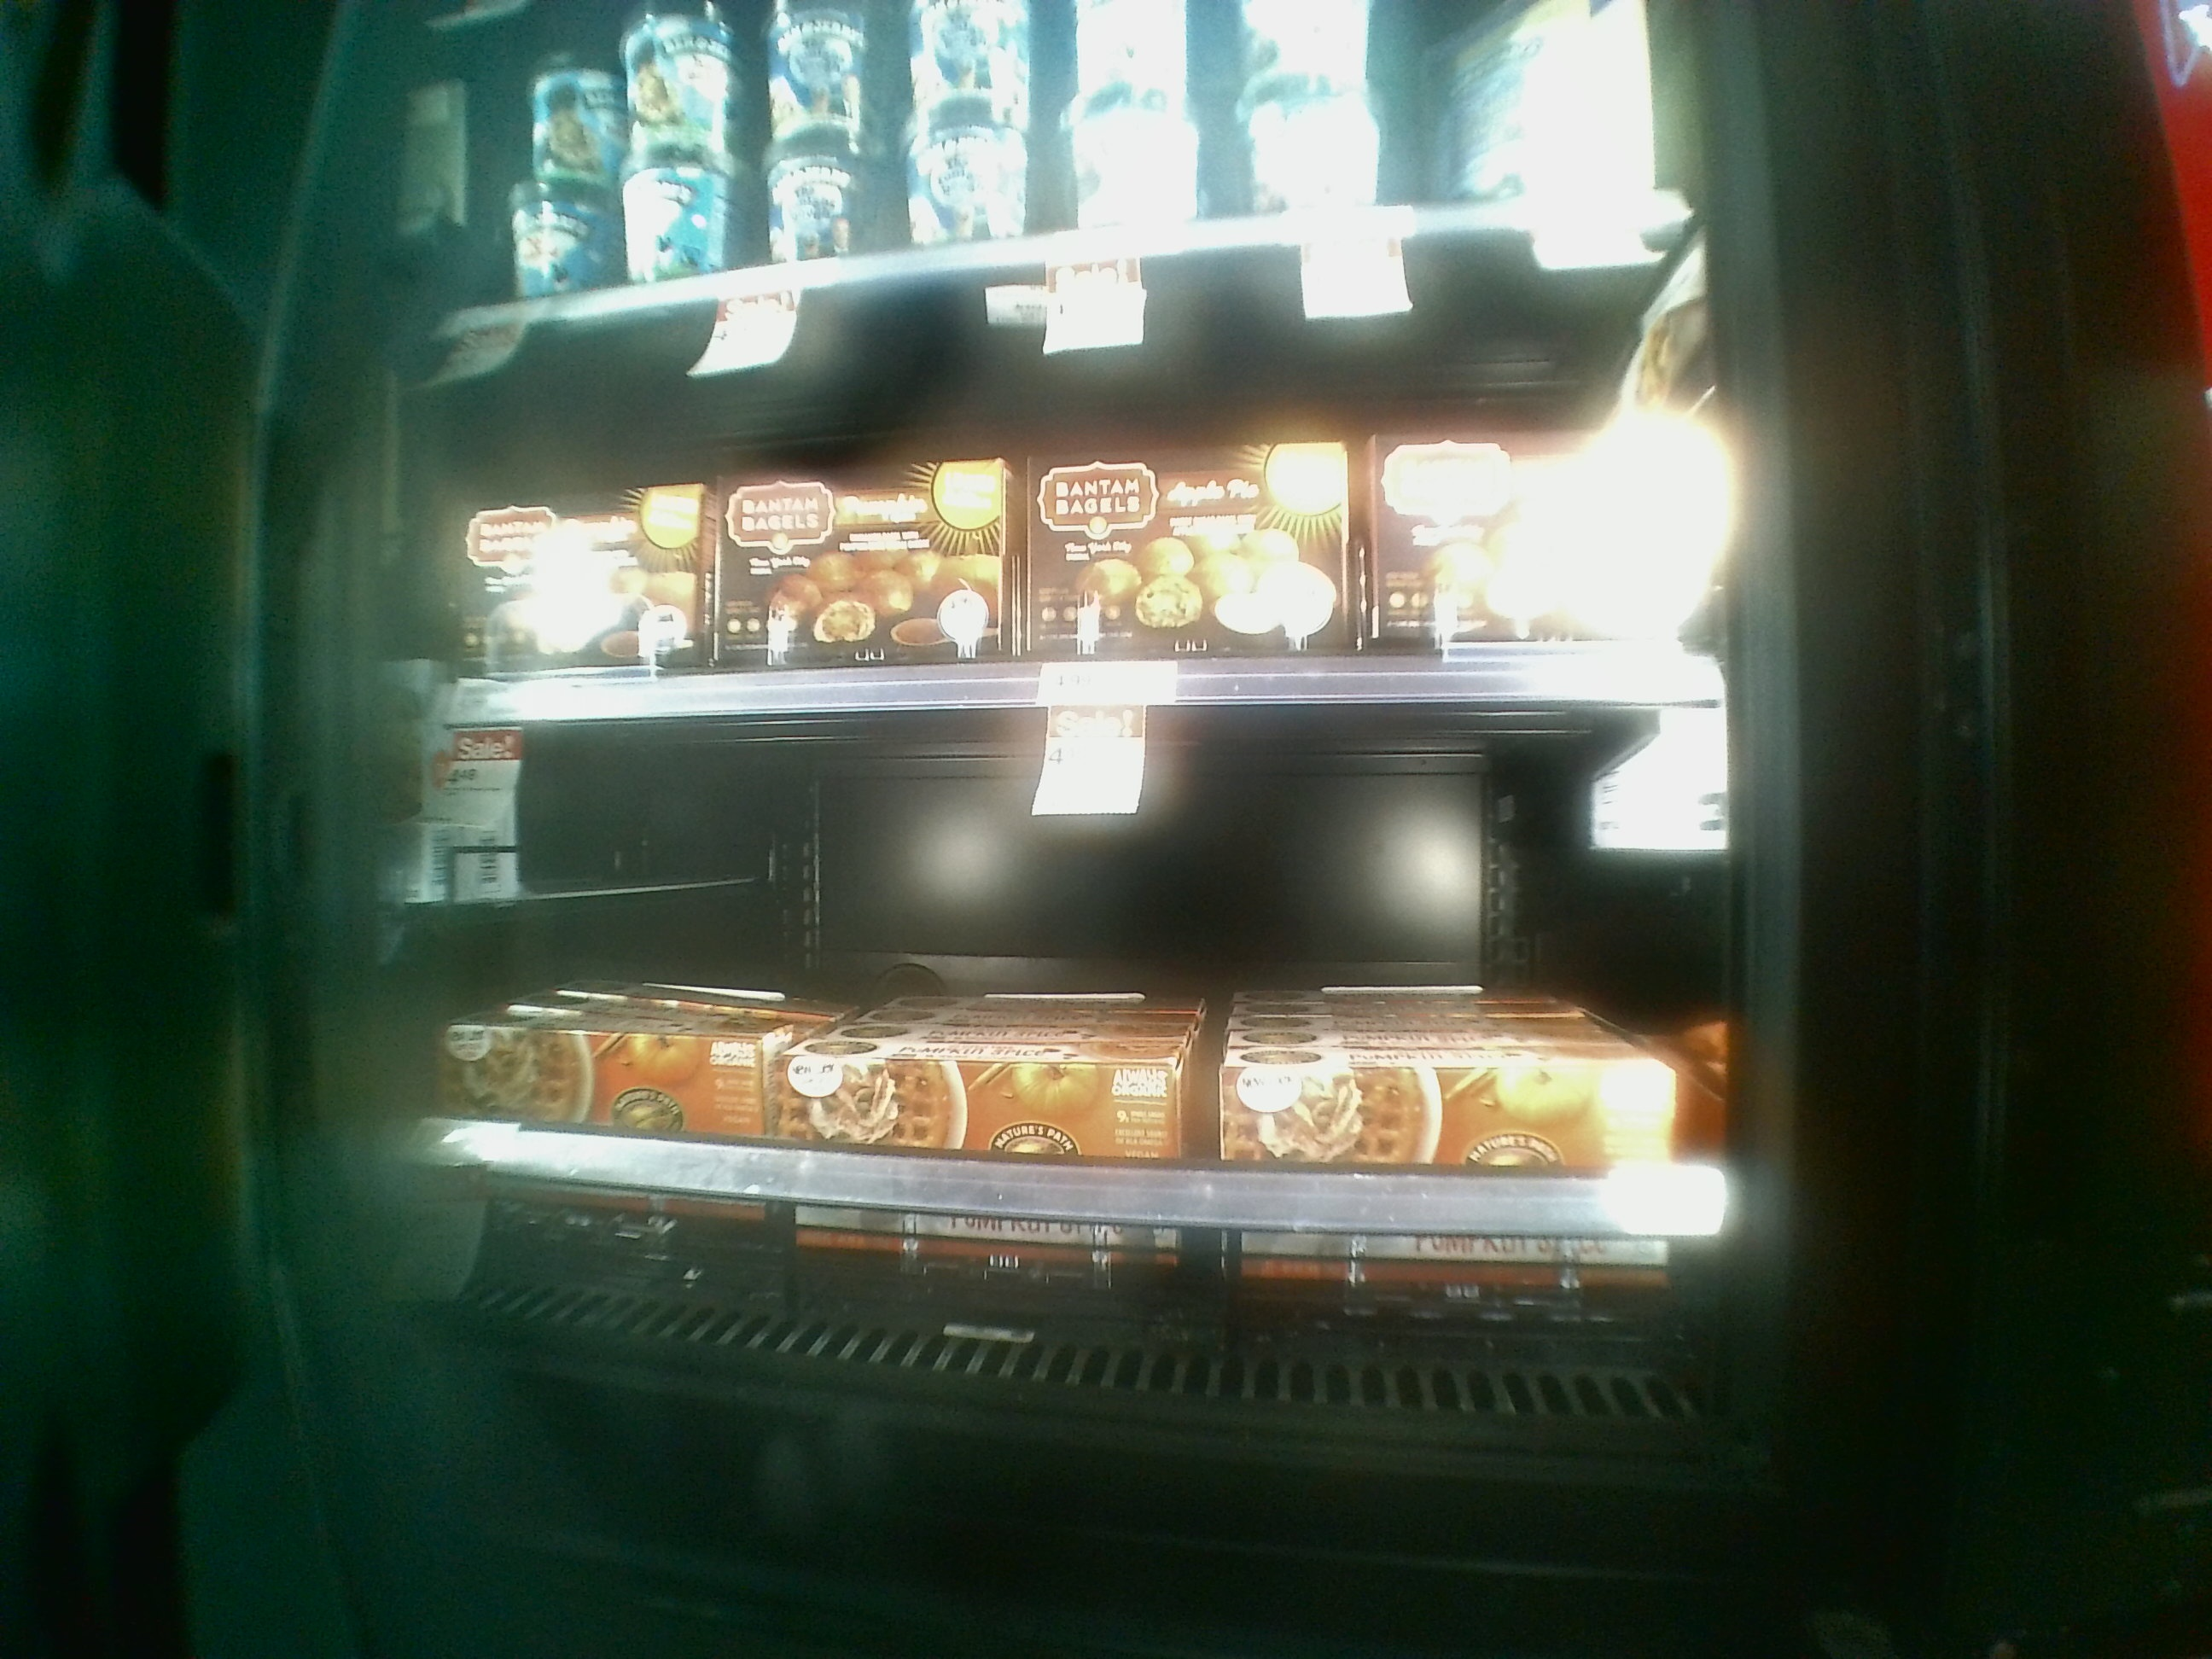shelf: (388, 678, 1743, 1441), (409, 279, 1721, 704)
